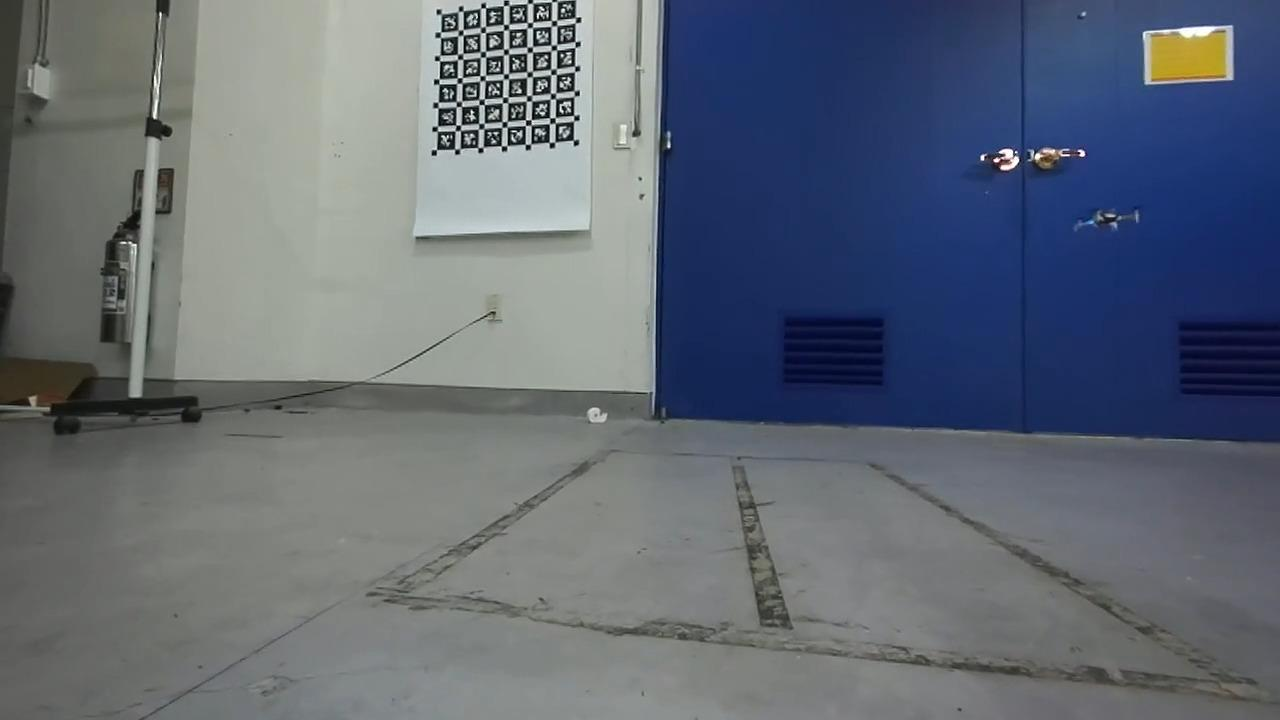crazyflie: (1067, 203, 1145, 236)
